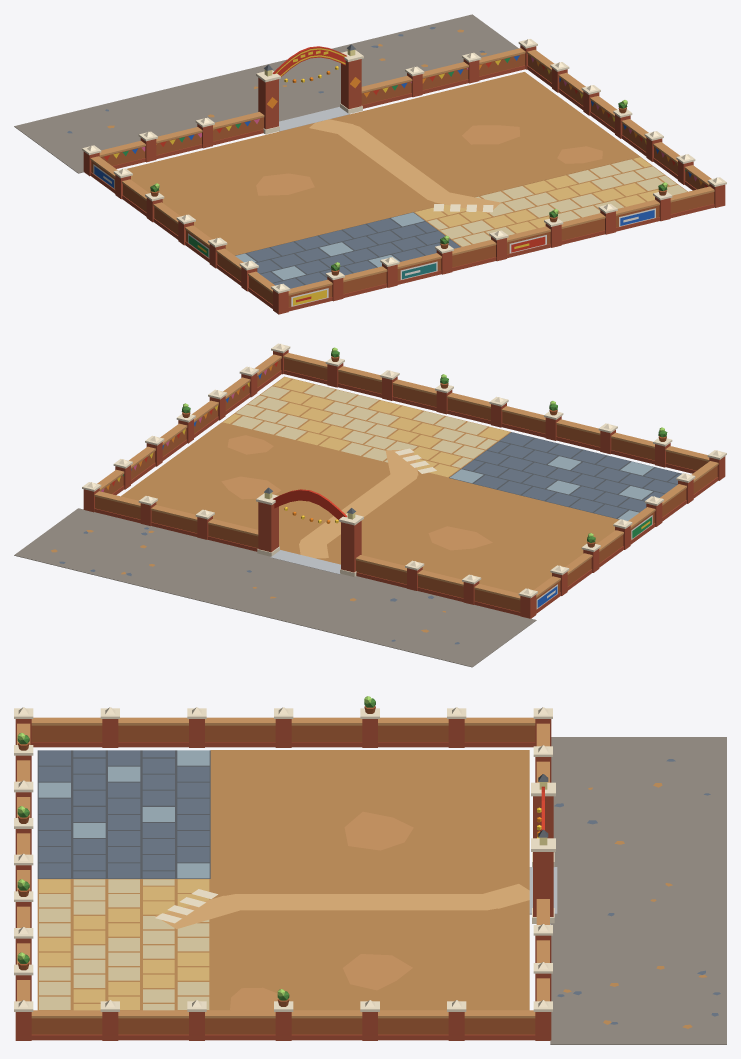
File: compound.glb
3 renders of one model, top to bottom at view 1: azimuth 30°, elevation 25°; view 2: azimuth 150°, elevation 25°; view 3: azimuth 270°, elevation 25°, orthographic. The views are drawn at different scales.
Parts seen in each view (by area): view 1: compound; view 2: compound; view 3: compound.
Part boxes in pixels (bbox=[...]): compound: bbox=[14, 14, 726, 314]; compound: bbox=[14, 343, 726, 667]; compound: bbox=[14, 696, 726, 1044].
Bounding box in the file's own units: 21 × 3.15 × 20.58.
Materials: 1 (1 with a texture image).
